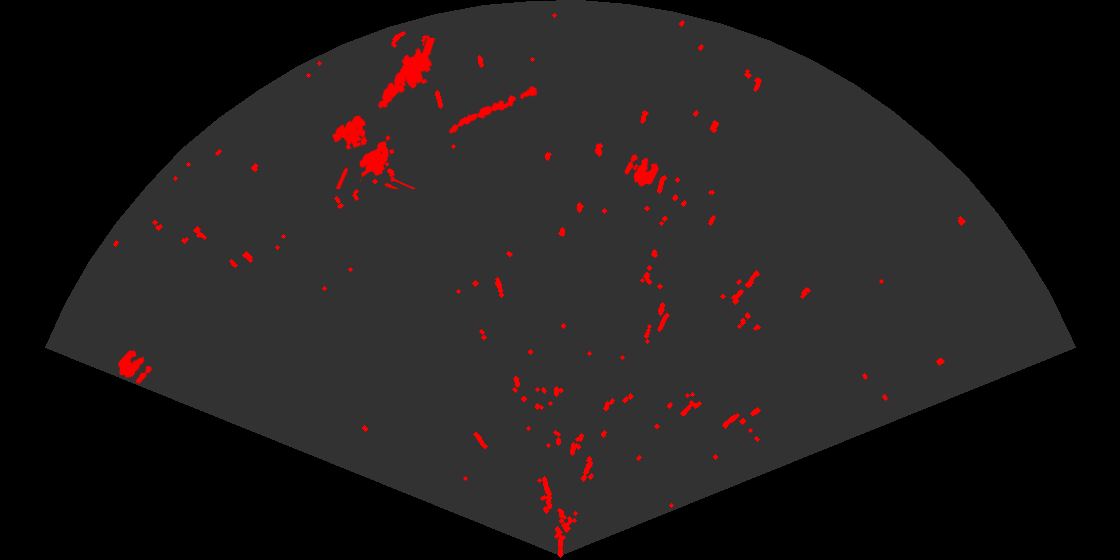ball: (116, 349, 153, 385), (623, 153, 660, 188)
cage: (331, 114, 415, 189)
chain: (447, 85, 539, 135)
frogman: (376, 38, 437, 110)
